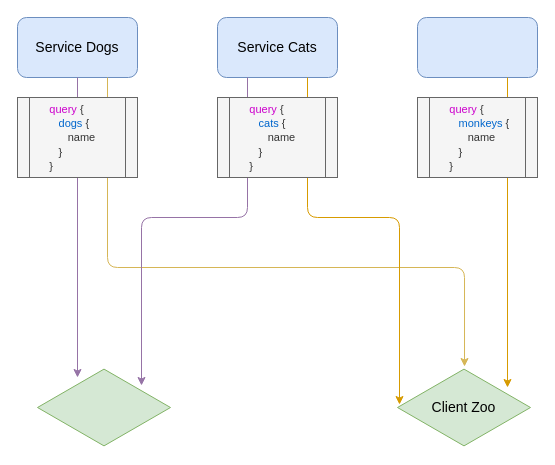
Image size: 555x465. Some labels were removed from this diagram. Each missing label, with the centre of its shape:
Client Park: (103,407)
Service Monkeys: (477,47)
